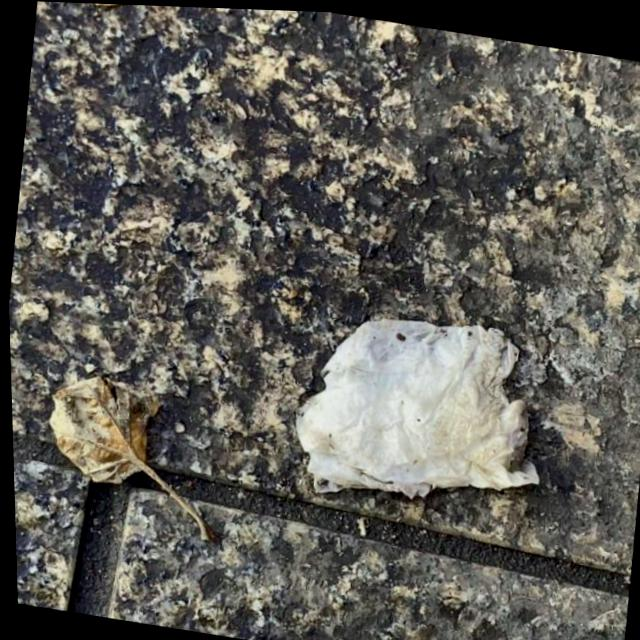Paper: (280, 279, 559, 524)
